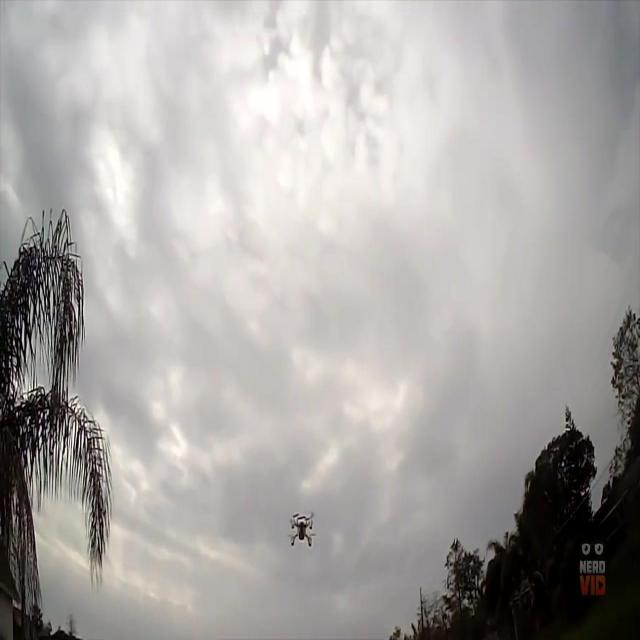drone: (288, 508, 318, 551)
